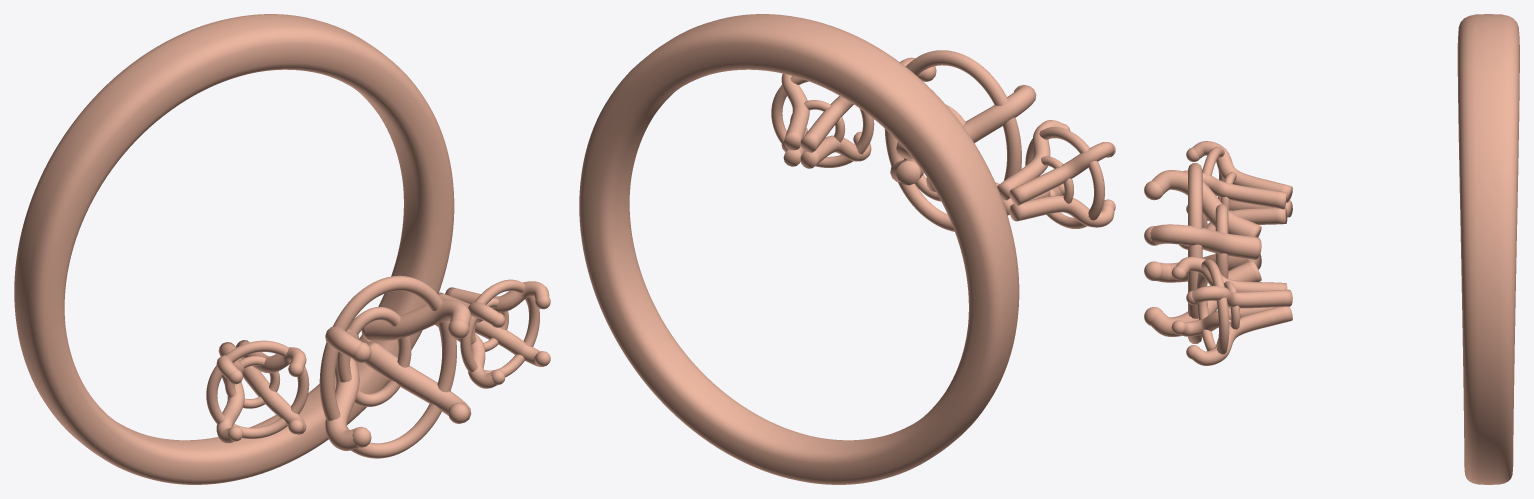
Rendered from Ring_ThreeStone.fbx.
3 views of the same model, side by side, from view 1: azimuth 30°, elevation 25°; view 2: azimuth 150°, elevation 25°; view 3: azimuth 270°, elevation 25° (orthographic). The views are drawn at different scales.
Visible parts, largest first — view 1: Band, Head_Center, Head_SideR, Head_SideL; view 2: Band, Head_SideR, Head_Center, Head_SideL; view 3: Band, Head_Center, Head_SideL, Head_SideR.
Boxes of the visible parts, x1=… form: Band: x1=14, y1=14, x2=454, y2=484; Head_Center: x1=319, y1=275, x2=471, y2=458; Head_SideR: x1=206, y1=340, x2=309, y2=443; Head_SideL: x1=435, y1=279, x2=550, y2=388; Band: x1=579, y1=14, x2=1019, y2=484; Head_SideR: x1=997, y1=120, x2=1115, y2=228; Head_Center: x1=884, y1=50, x2=1036, y2=231; Head_SideL: x1=771, y1=73, x2=874, y2=168; Band: x1=1457, y1=14, x2=1519, y2=484; Head_Center: x1=1144, y1=163, x2=1261, y2=343; Head_SideL: x1=1171, y1=256, x2=1292, y2=365; Head_SideR: x1=1179, y1=141, x2=1292, y2=249.
Size of the model in its own units: 0.0207 by 0.0209 by 0.0167.
